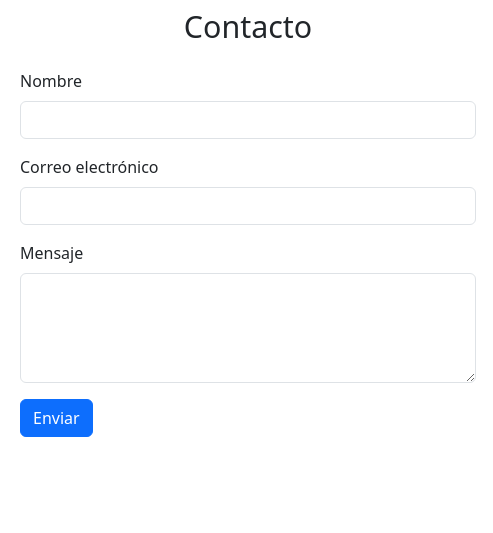
it: ContactForm › muestra errores y no envía si el formulario está vacío
Click the button "Enviar" at (56, 418), box [20, 398, 93, 436]
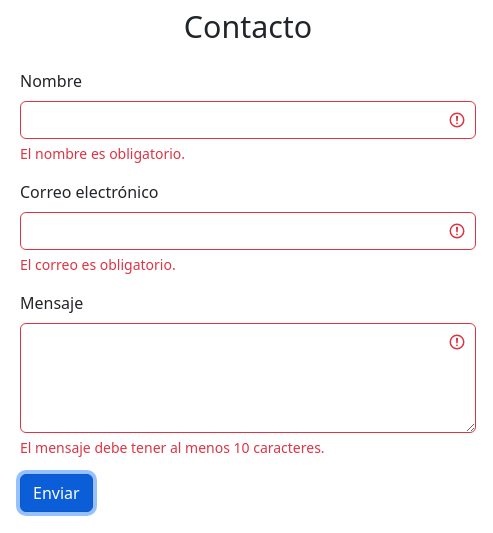
expect the text "El nombre es obligatorio." is shown: met, box [20, 144, 185, 162]
expect the text "El correo es obligatorio." is shown: met, box [20, 254, 176, 274]
